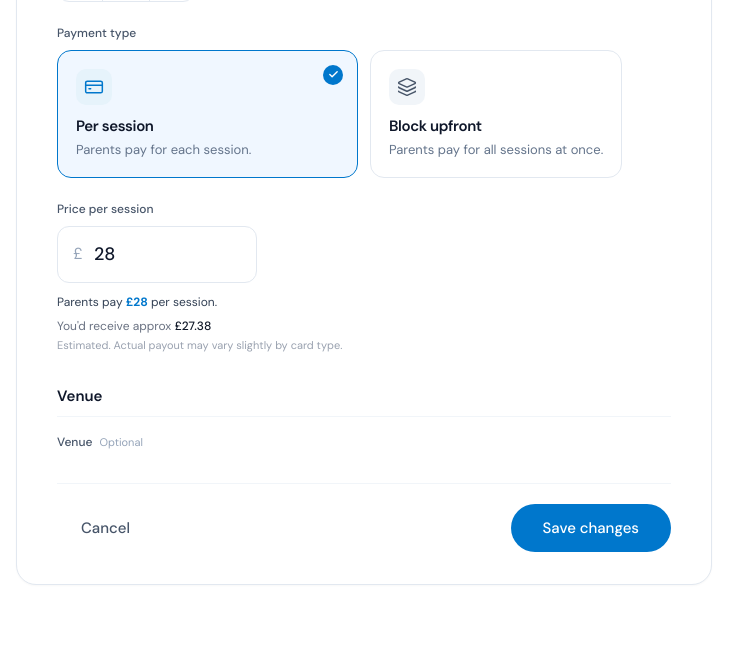
EditProgramme — 409 conflict handling (UX-19) › clears the conflict and re-enables Save when the coach edits the form
(page scrolled)
Click the button "Save changes": (591, 528) [510,504,671,552]
(page scrolled)
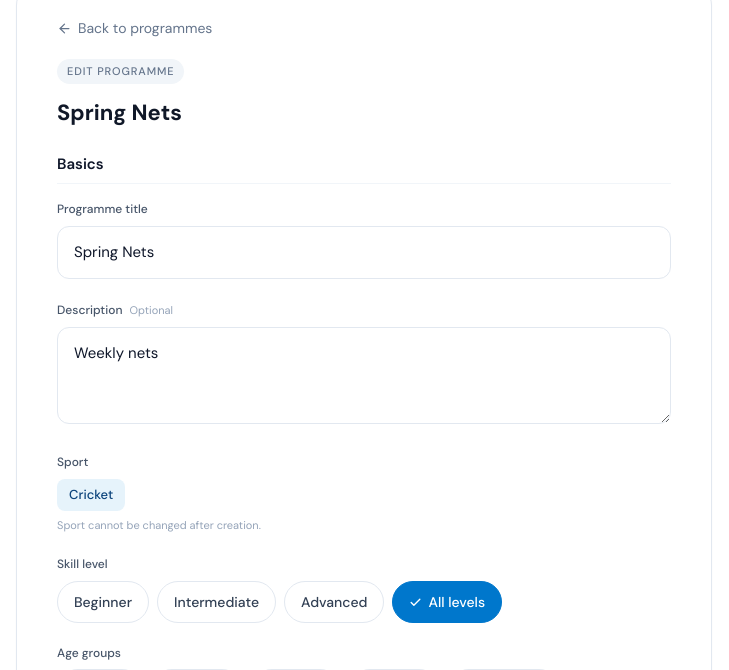
In the field showing "Spring Nets": (364, 252) [57,226,671,278], type " U11"
(page scrolled)
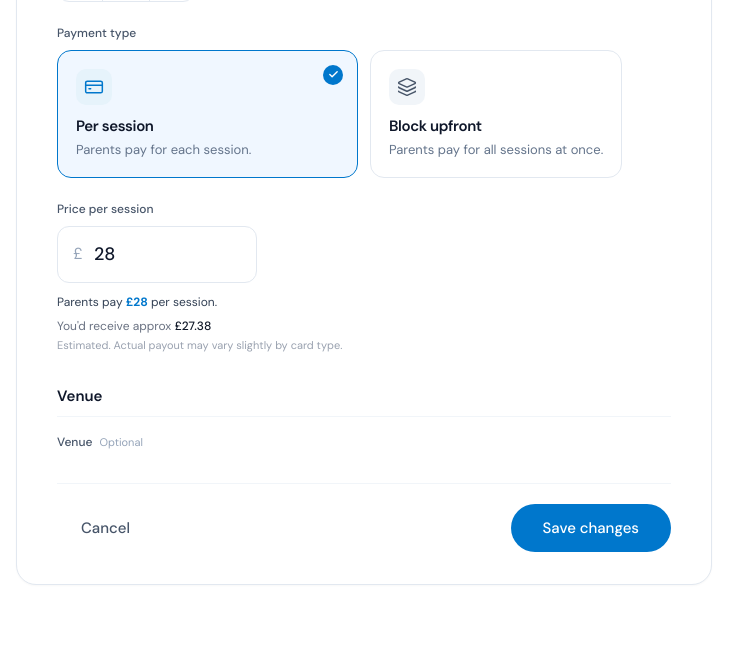
Result: the button "Save changes" is enabled at [510,504,671,552]
